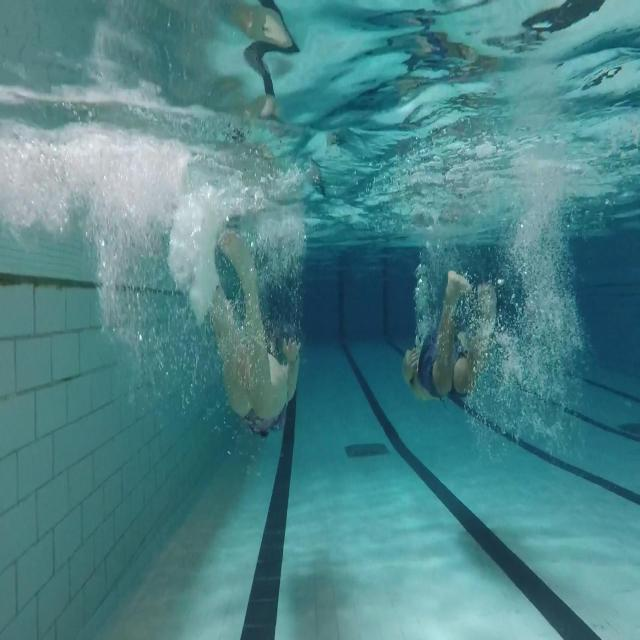human: (208, 227, 302, 438), (401, 268, 497, 407)
